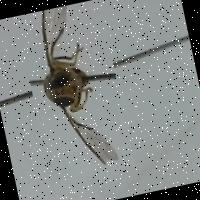Oriental-fruit-fly: (15, 0, 134, 183)
